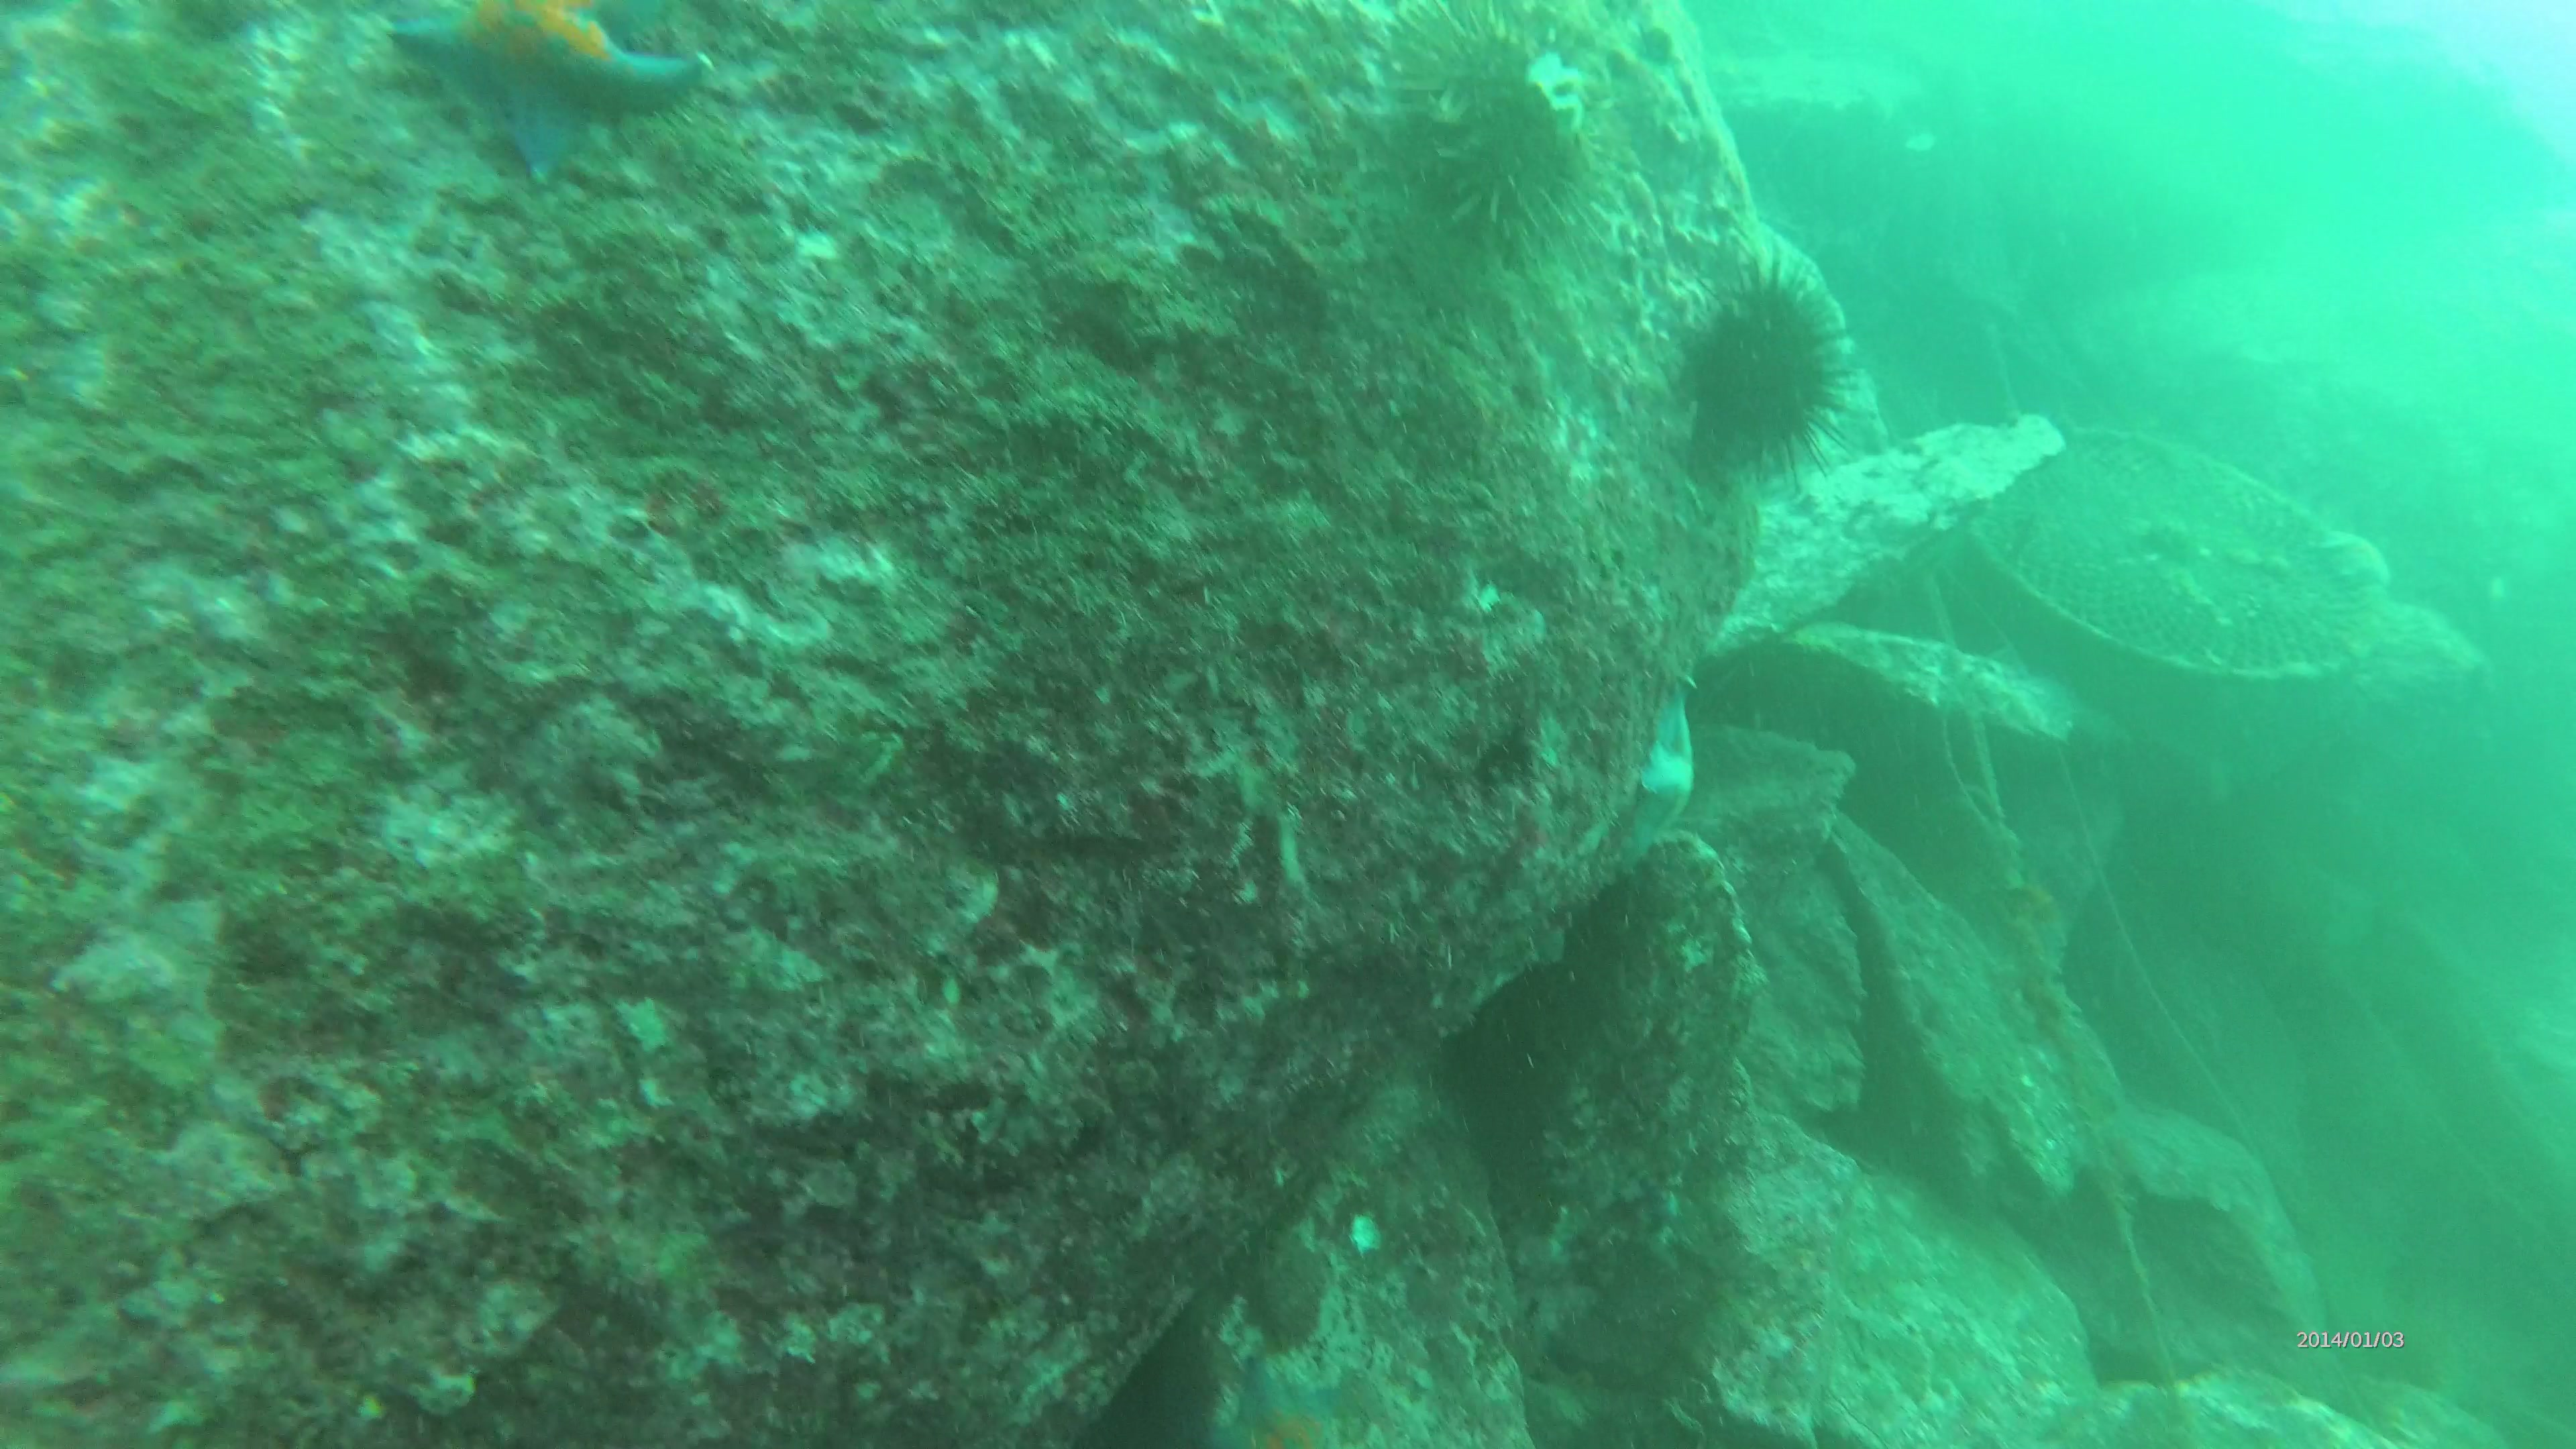echinus: (1366, 0, 1599, 255), (1690, 253, 1868, 490)
starfish: (389, 0, 729, 166)
